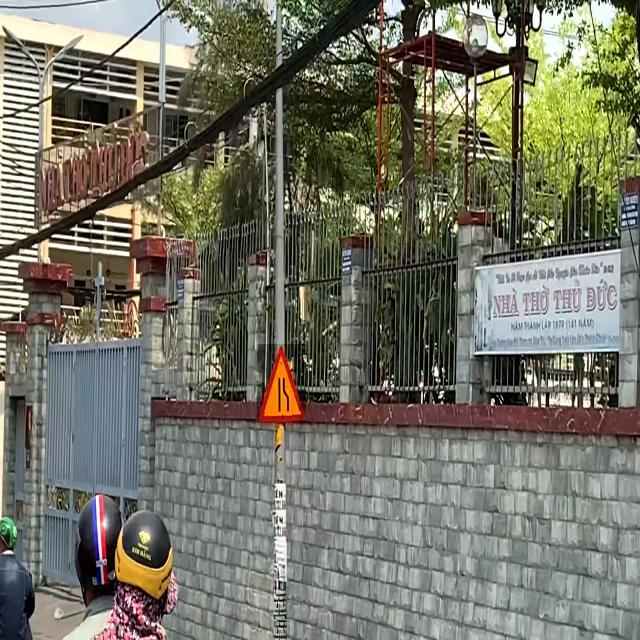W-203c: (257, 344, 306, 423)
